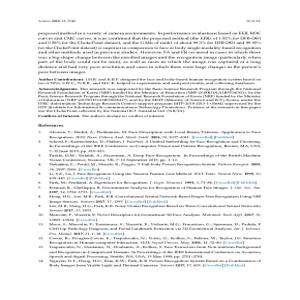text: (36, 28, 262, 271)
